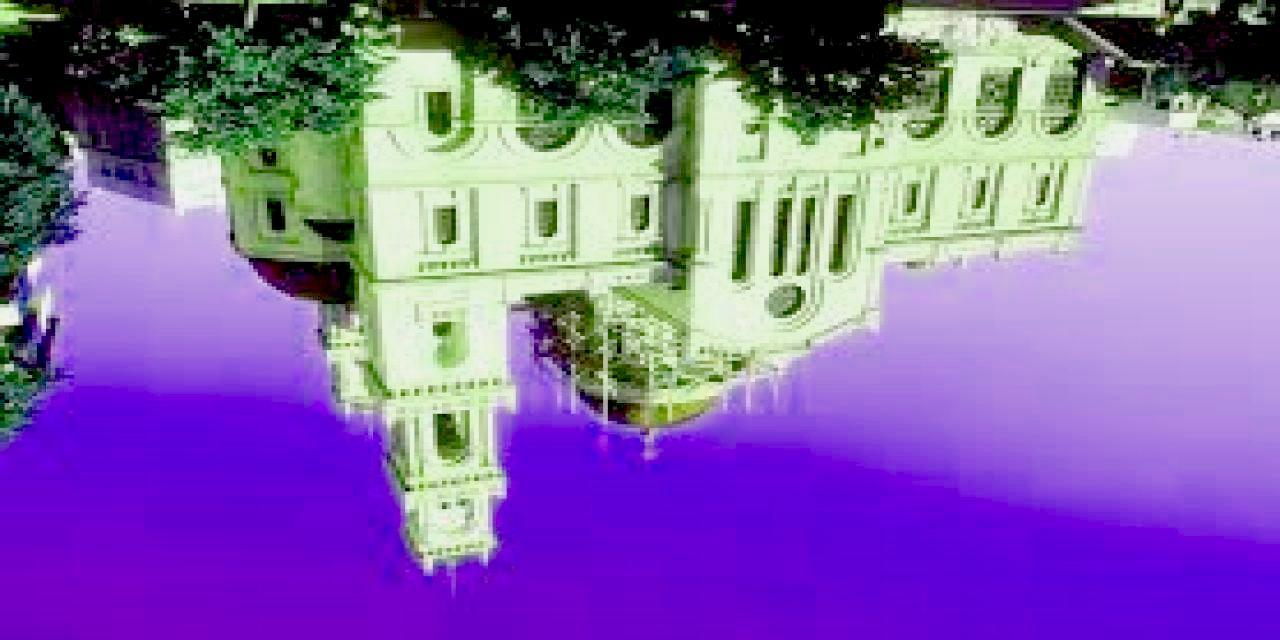Agios Minas: (216, 9, 1120, 585)
